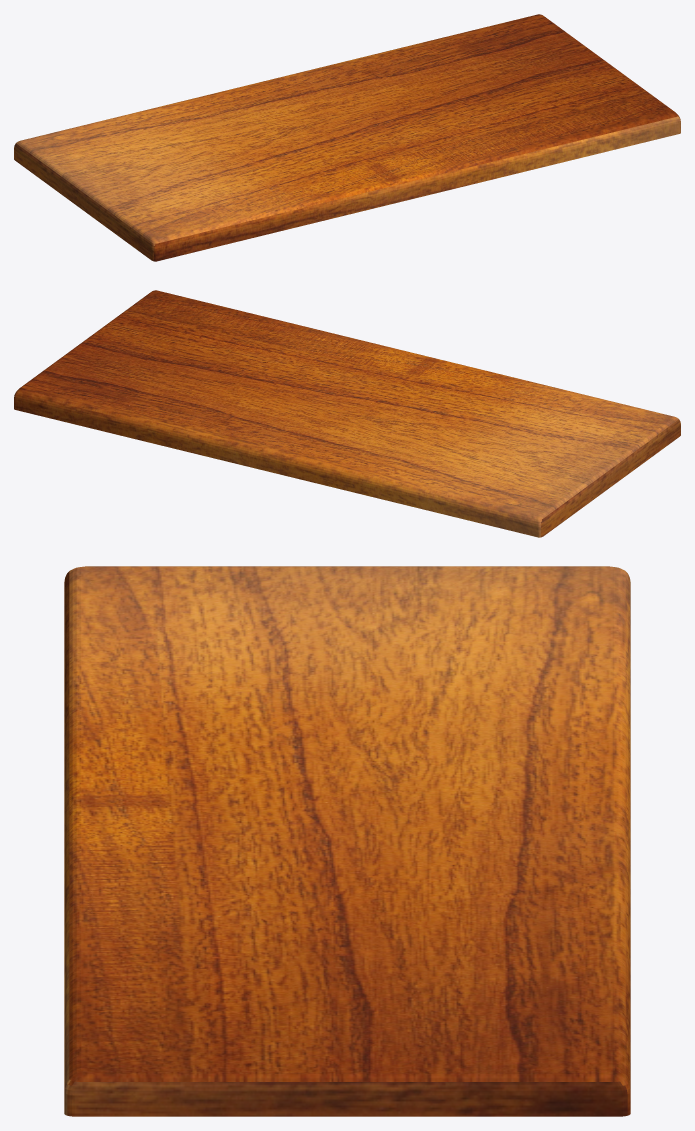
Rendered from bar.glb.
3 renders of one model, top to bottom at view 1: azimuth 30°, elevation 25°; view 2: azimuth 150°, elevation 25°; view 3: azimuth 270°, elevation 25°, orthographic. The views are drawn at different scales.
Visible parts, largest first — view 1: desk; view 2: desk; view 3: desk.
Part boxes in pixels (<box>): desk: <box>14,14,680,261</box>; desk: <box>14,290,680,537</box>; desk: <box>64,566,630,1116</box>.
Size of the model in its own units: 2987 by 103 by 1385.
1 material, 1 textured.
